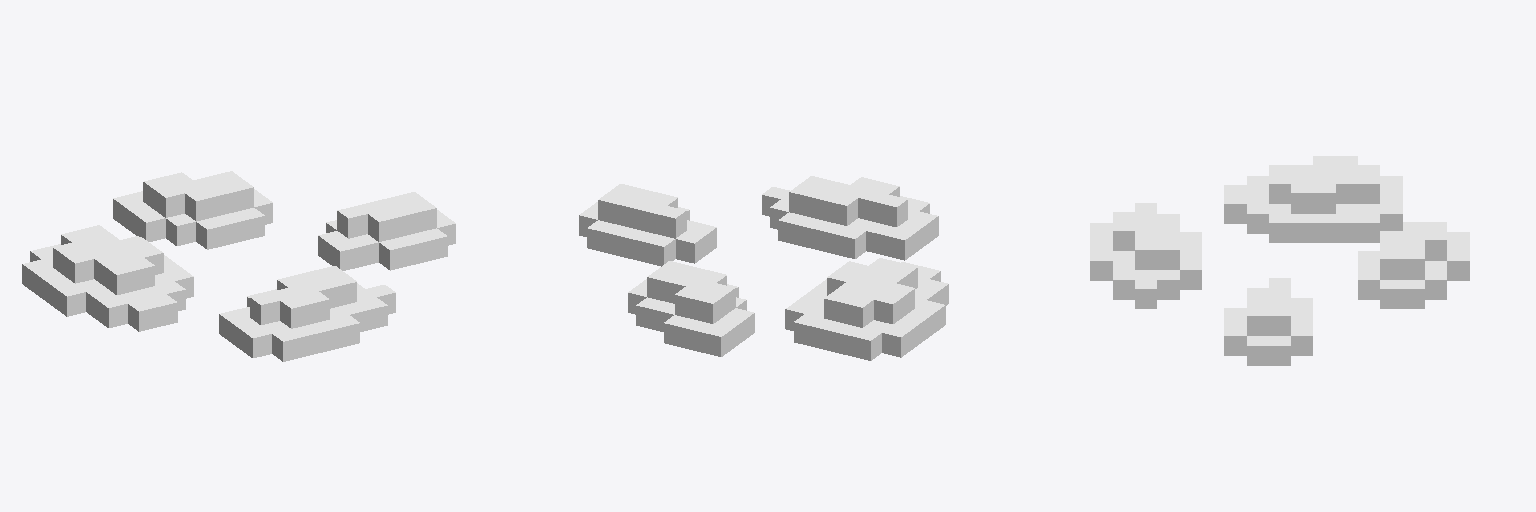
File: Moss1.obj
The picture shows the model from 3 angles: view 1: azimuth 30°, elevation 25°; view 2: azimuth 150°, elevation 25°; view 3: azimuth 270°, elevation 25°; orthographic projection.
Visible parts, largest first — view 1: Moss1; view 2: Moss1; view 3: Moss1.
Boxes of the visible parts, <box> form: Moss1: <box>22,171,455,361</box>; Moss1: <box>579,176,948,360</box>; Moss1: <box>1090,156,1469,365</box>.
Bounding box in the file's own units: 1.9 × 0.2 × 1.7.